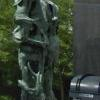Statue: (4, 3, 66, 91)
